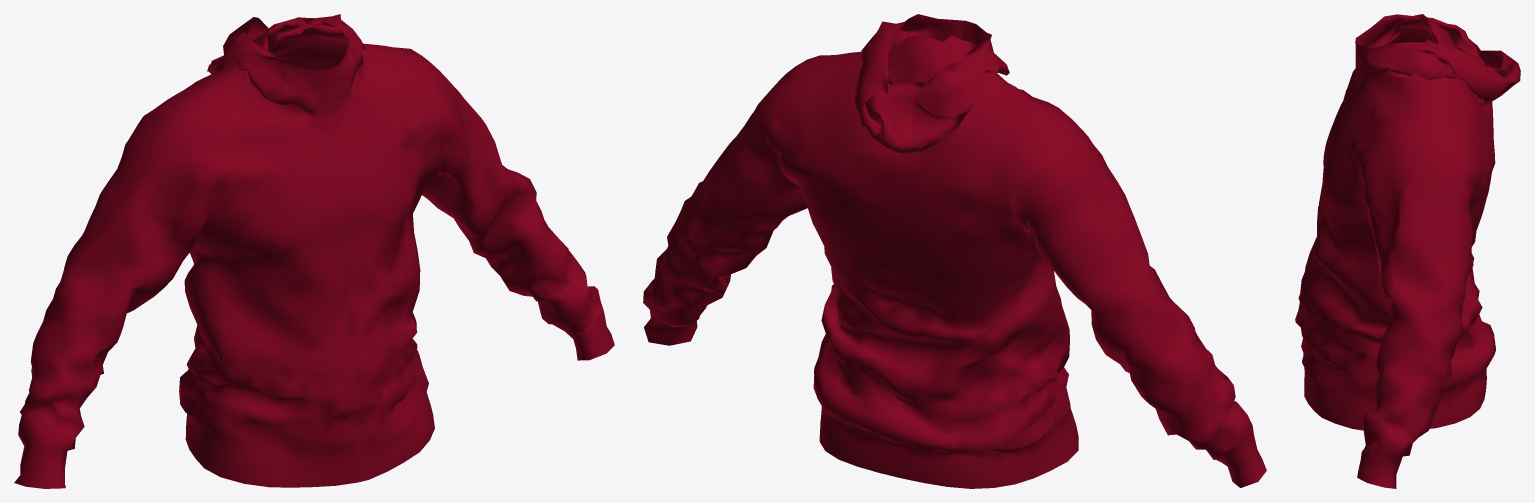
File: Hot_Clothes.fbx
The picture shows the model from 3 angles, left to right: view 1: azimuth 30°, elevation 25°; view 2: azimuth 150°, elevation 25°; view 3: azimuth 270°, elevation 25°; orthographic projection. The views are drawn at different scales.
Visible parts, largest first — view 1: hoodie_blue; view 2: hoodie_blue; view 3: hoodie_blue.
Boxes of the visible parts, x1,y1,x2,y2 form: hoodie_blue: (14, 14, 614, 488); hoodie_blue: (643, 14, 1266, 488); hoodie_blue: (1295, 14, 1520, 488).
Size of the model in its own units: 103 by 68.43 by 37.92.
